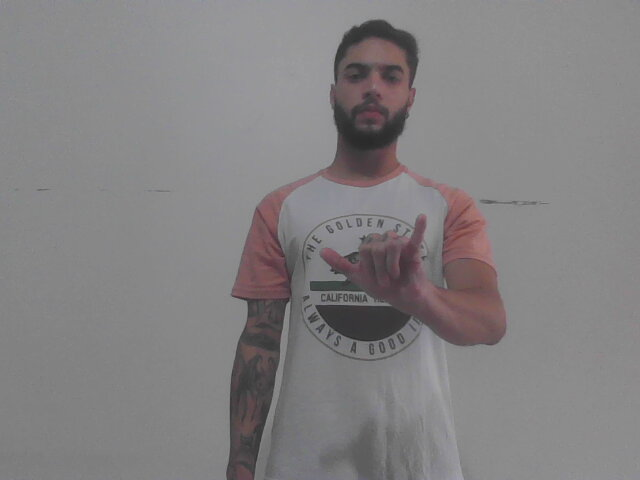y: (318, 210, 434, 312)
